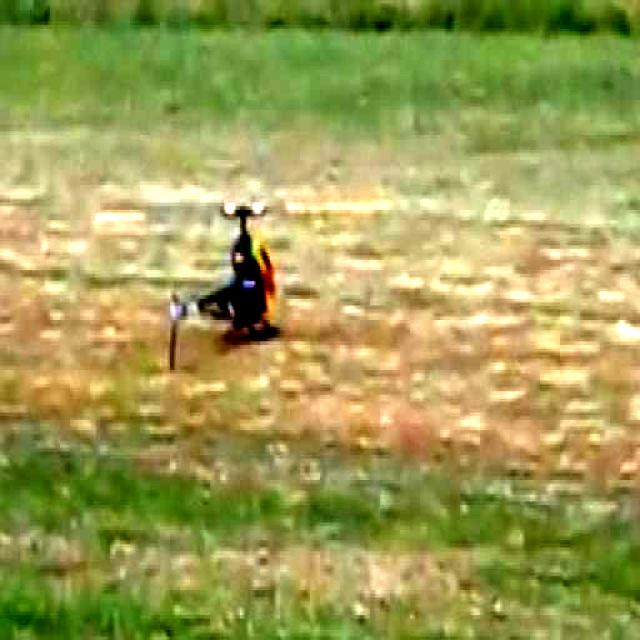drone: (144, 175, 355, 374)
